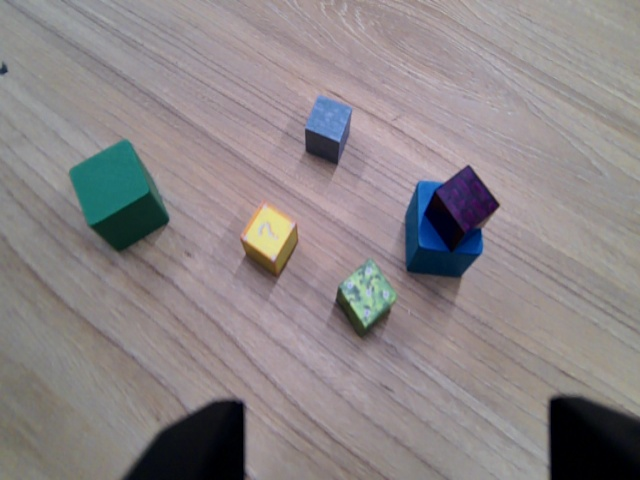brick: (424, 158, 499, 254)
grass: (335, 254, 399, 340)
lucky: (236, 199, 304, 281)
stone: (300, 90, 356, 169)
